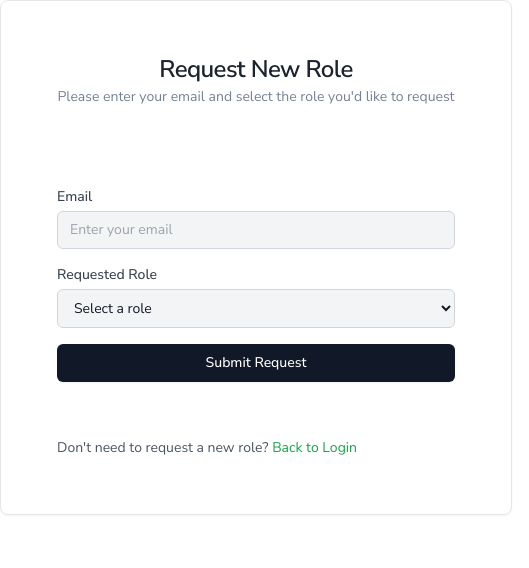
Test: NewRoleRequestCard › shows error message on API failure
Type "test@example.com" into the field labelled "Email" at (256, 230), box 57,211 -> 455,249
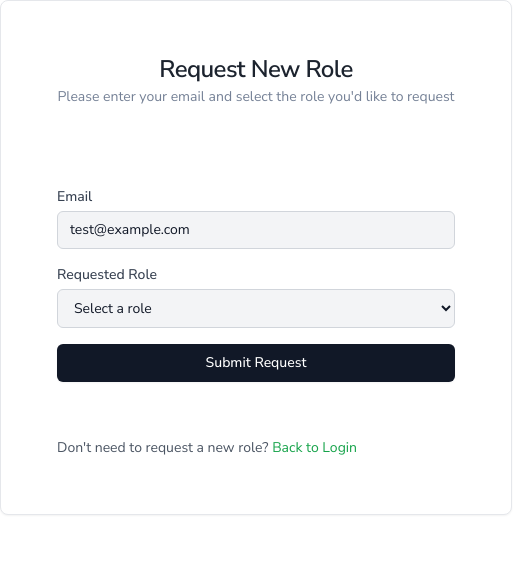
Select "Instructor" in the dropdown labelled "Requested Role" at (256, 308), box 57,289 -> 455,328
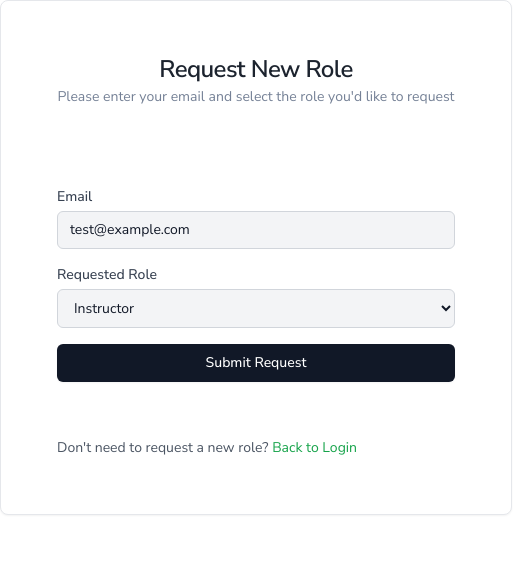
Click the button "Submit Request" at (256, 363), box 57,344 -> 455,382
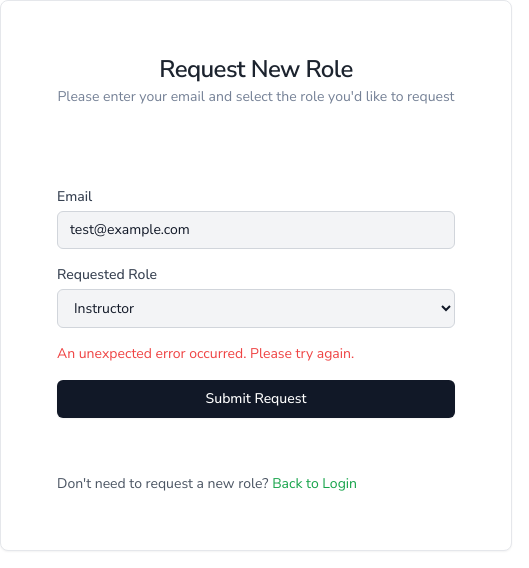
Check: the text "An unexpected error occurred. Please try again." is shown, box 57,344 -> 354,363
